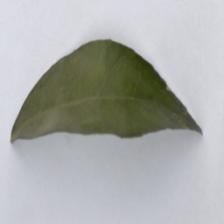healthy: (13, 37, 204, 147)
